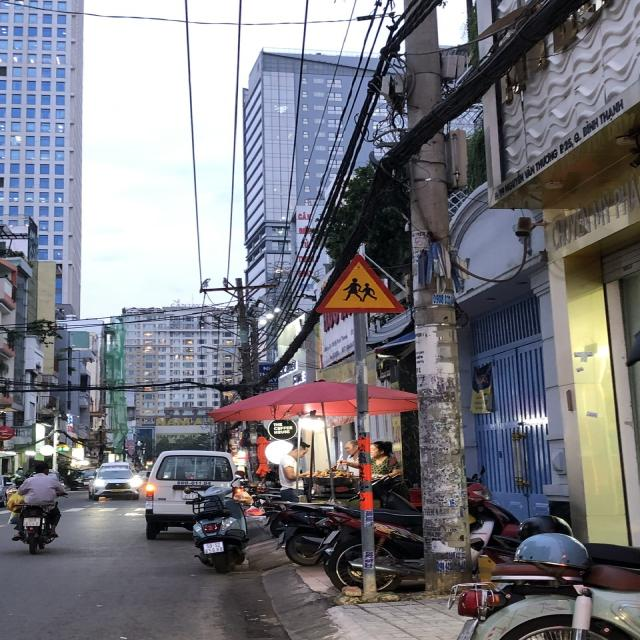Bien bao tre em: (304, 247, 414, 316)
